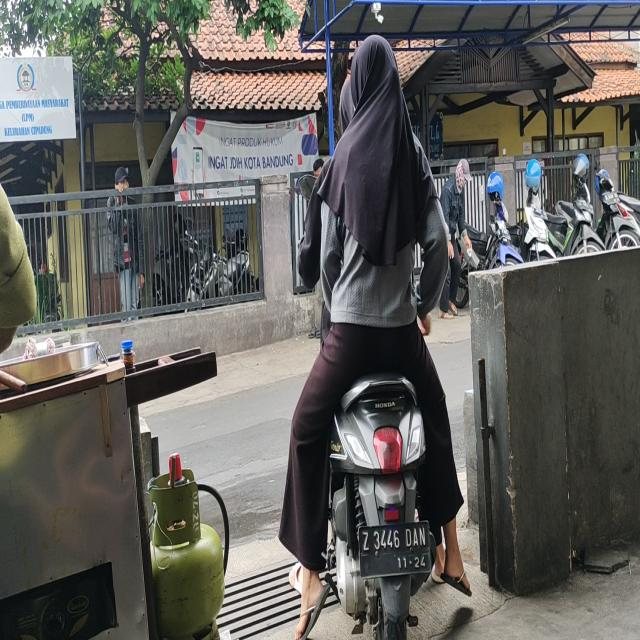no-helmet: (352, 36, 402, 126)
